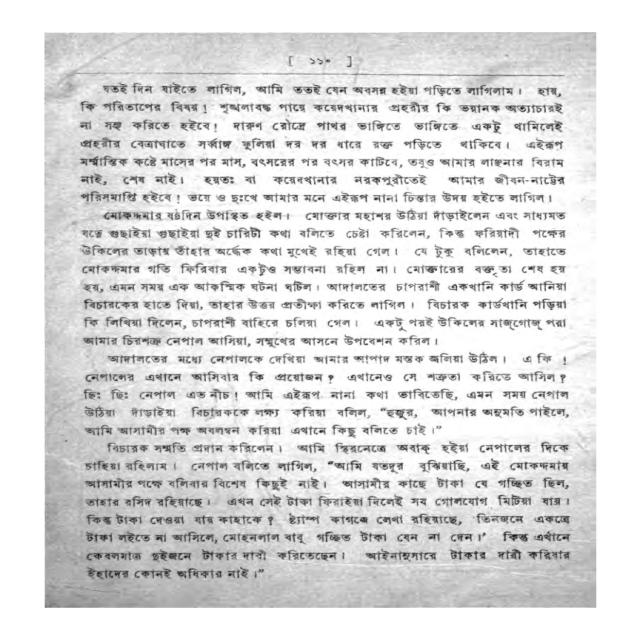page number: (282, 45, 356, 70)
paragraph: (72, 439, 580, 583), (78, 210, 579, 350), (71, 77, 577, 206), (64, 352, 574, 438)
